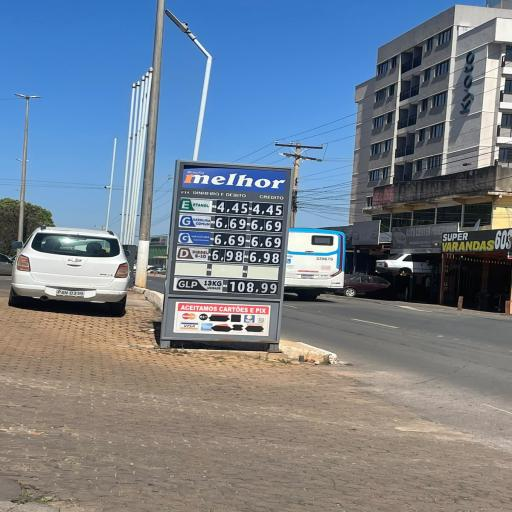ETANOL: (182, 198, 212, 212)
GASOLINA AD: (178, 231, 210, 244)
GASOLINA C: (178, 214, 210, 226)
S10: (177, 247, 209, 260)
placa: (172, 191, 286, 276)
preco: (215, 216, 247, 230), (217, 201, 249, 214), (212, 250, 244, 262), (214, 234, 244, 246)
